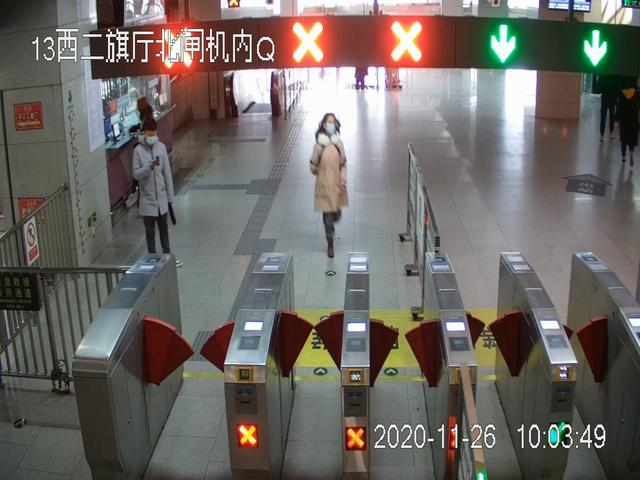person: (132, 118, 176, 267), (309, 109, 348, 257)
